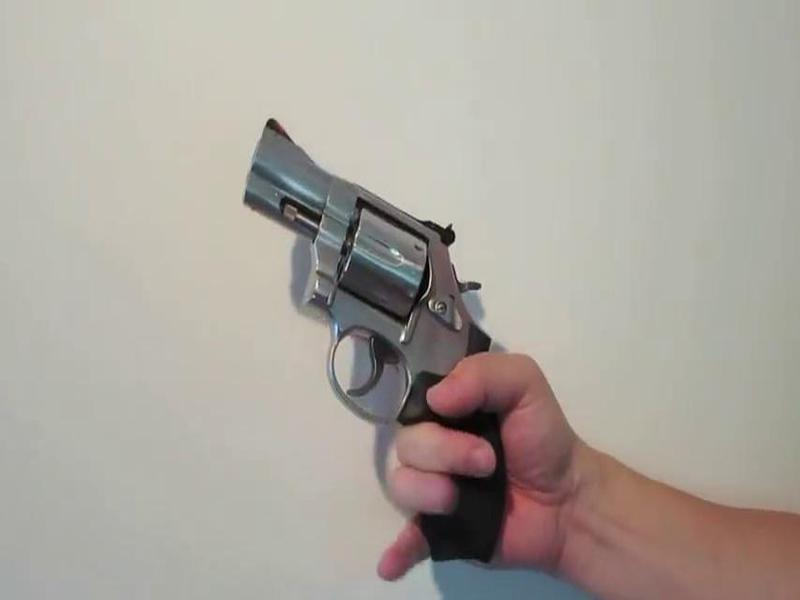Revolver: (201, 104, 517, 535)
